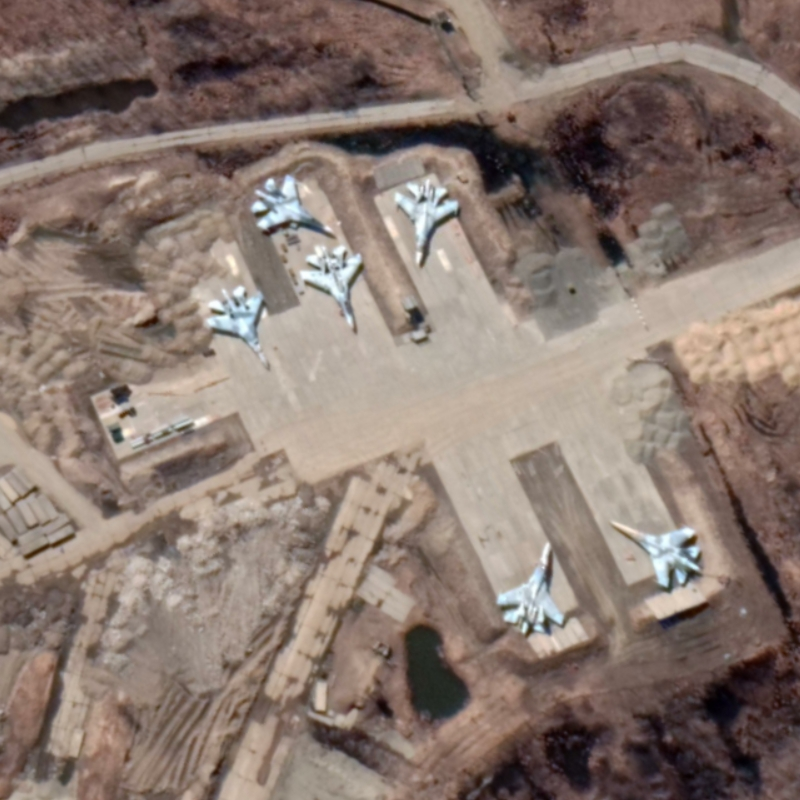A1: (495, 539, 566, 637), (607, 518, 703, 589), (203, 283, 273, 372), (392, 178, 461, 268), (298, 243, 364, 333), (250, 172, 339, 237)
